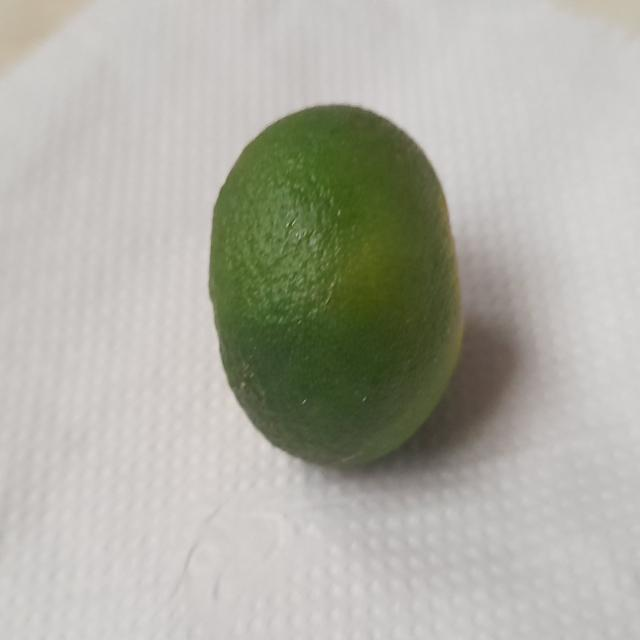heathy: (209, 90, 473, 486)
